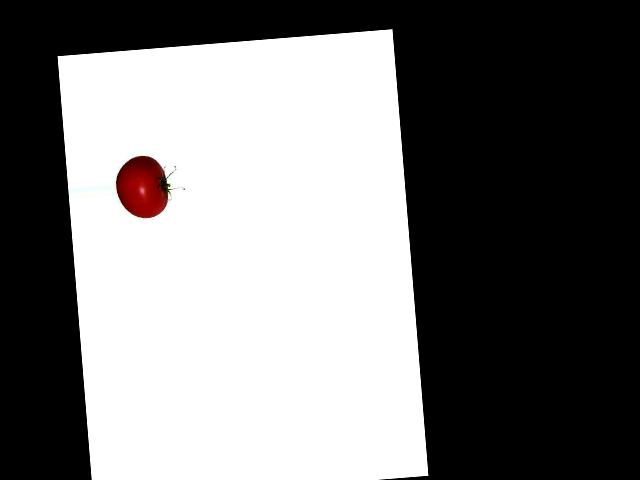tomato: (113, 154, 170, 221)
